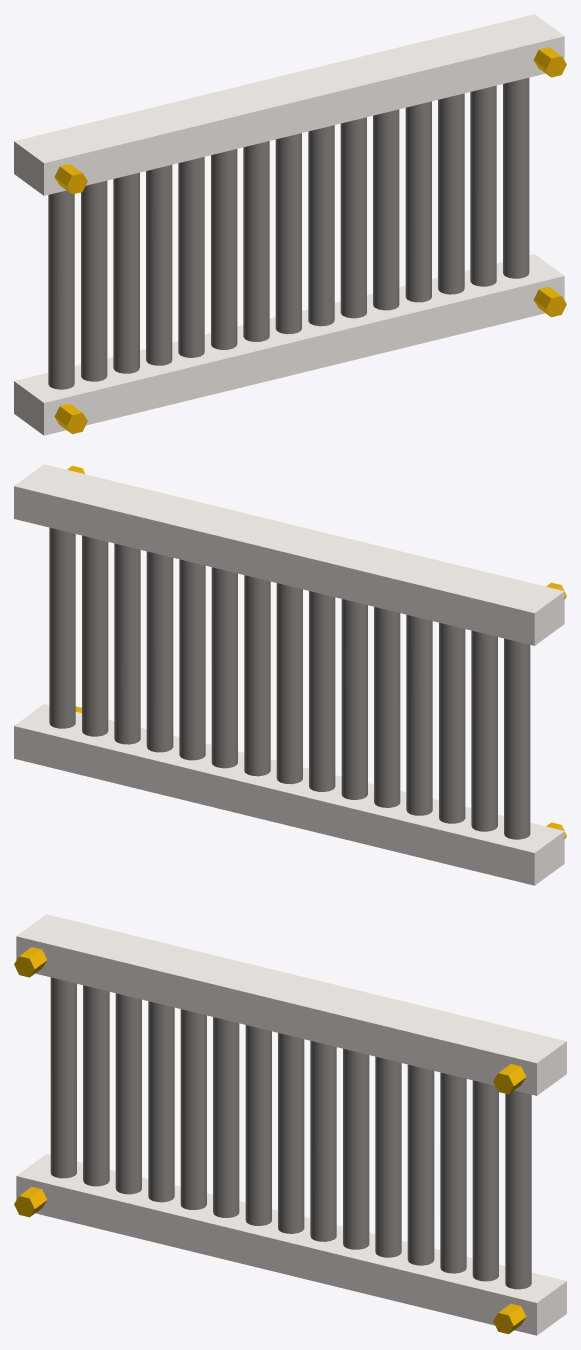
Rendered from roller_deck_agv_part_1.dae.
3 views of the same model, one above another, from view 1: azimuth 30°, elevation 25°; view 2: azimuth 150°, elevation 25°; view 3: azimuth 330°, elevation 25° (orthographic).
Visible parts, largest first — view 1: instance_0, instance_0_017, instance_0_005, instance_0_007, instance_0_009, instance_0_014, instance_0_006, instance_0_010, instance_0_019, instance_0_008, instance_0_011, instance_0_012 (+9 smaller); view 2: instance_0, instance_0_017, instance_0_008, instance_0_004, instance_0_005, instance_0_007, instance_0_011, instance_0_014, instance_0_020, instance_0_009, instance_0_003, instance_0_006 (+5 smaller); view 3: instance_0, instance_0_017, instance_0_008, instance_0_003, instance_0_004, instance_0_010, instance_0_007, instance_0_009, instance_0_012, instance_0_014, instance_0_018, instance_0_011 (+9 smaller).
Boxes of the visible parts, x1,y1,x2,y2 form: instance_0: (14,14,564,195); instance_0_017: (14,254,564,435); instance_0_005: (503,77,529,278); instance_0_007: (373,109,399,310); instance_0_009: (438,93,464,294); instance_0_014: (146,165,172,365); instance_0_006: (470,85,496,286); instance_0_010: (113,172,139,373); instance_0_019: (178,157,204,357); instance_0_008: (405,101,431,302); instance_0_011: (340,117,366,318); instance_0_012: (308,125,334,326); instance_0: (14,464,564,645); instance_0_017: (14,704,564,885); instance_0_008: (146,551,173,752); instance_0_004: (471,630,497,831); instance_0_005: (49,527,75,728); instance_0_007: (179,559,205,760); instance_0_011: (211,567,237,768); instance_0_014: (406,614,432,815); instance_0_020: (341,599,367,799); instance_0_009: (114,543,140,744); instance_0_003: (504,638,530,839); instance_0_006: (82,535,108,736); instance_0: (16,914,566,1095); instance_0_017: (16,1154,566,1335); instance_0_008: (407,1064,434,1265); instance_0_003: (50,977,76,1178); instance_0_004: (83,985,109,1186); instance_0_010: (115,993,141,1194); instance_0_007: (375,1056,401,1257); instance_0_009: (440,1072,466,1273); instance_0_012: (310,1040,336,1241); instance_0_014: (148,1001,174,1202); instance_0_018: (245,1025,271,1225); instance_0_011: (343,1048,369,1249).
Size of the model in its own units: 394 by 197 by 55.91.
